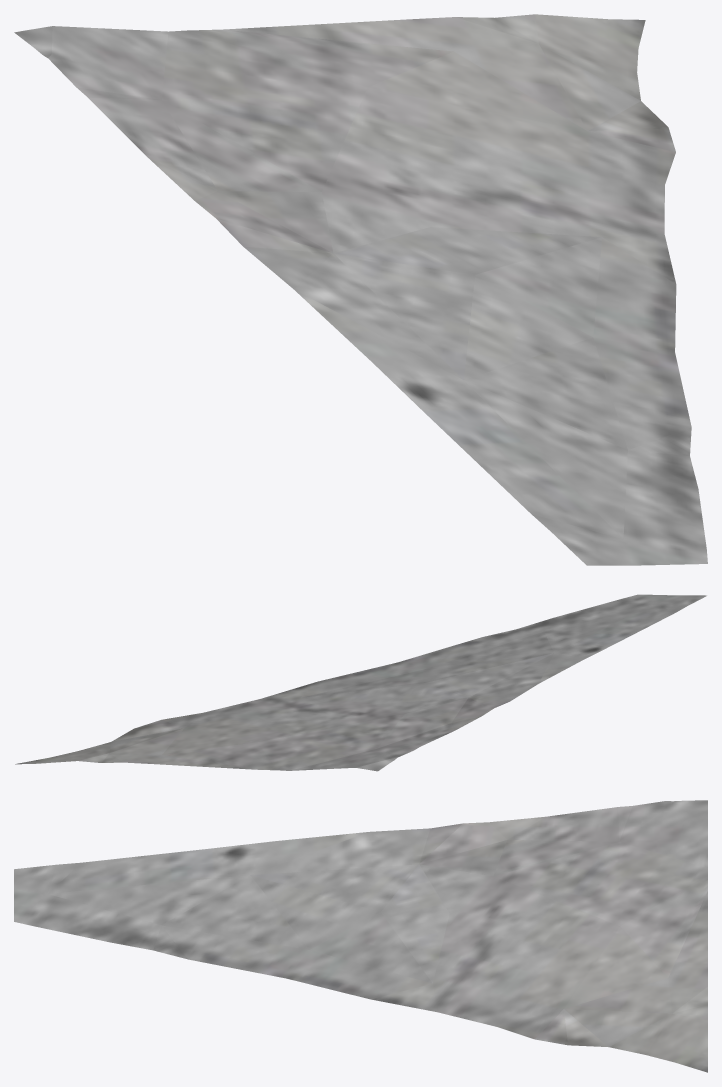
3 renders of one model, top to bottom at view 1: azimuth 30°, elevation 25°; view 2: azimuth 150°, elevation 25°; view 3: azimuth 270°, elevation 25°, orthographic. The views are drawn at different scales.
Size of the model in its own units: 0.533 by 0.1142 by 0.8373.
1 material, 1 textured.
